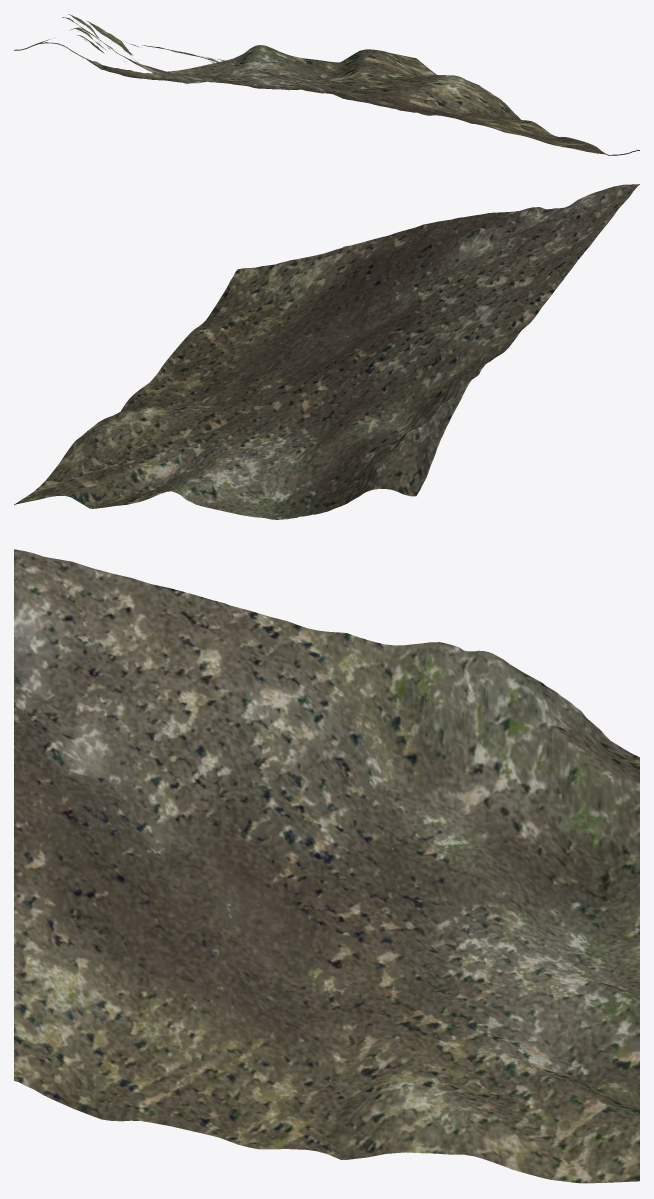
3 views of the same model, one above another, from view 1: azimuth 30°, elevation 25°; view 2: azimuth 150°, elevation 25°; view 3: azimuth 270°, elevation 25° (orthographic). The views are drawn at different scales.
Bounding box in the file's own units: 500 × 306 × 481.
1 material, 1 textured.
